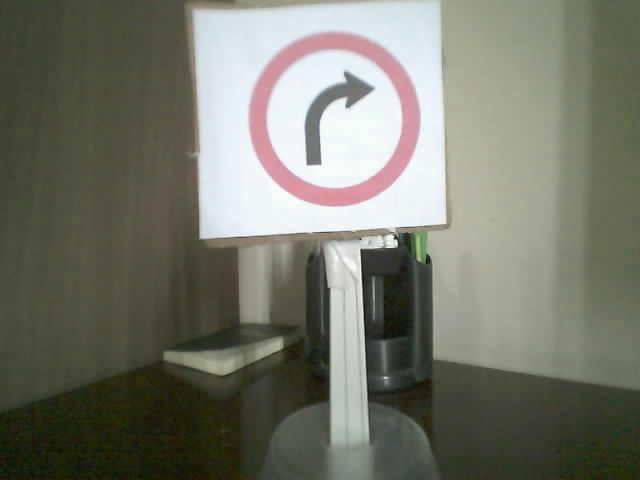R-25b_direita: (247, 30, 420, 206)
